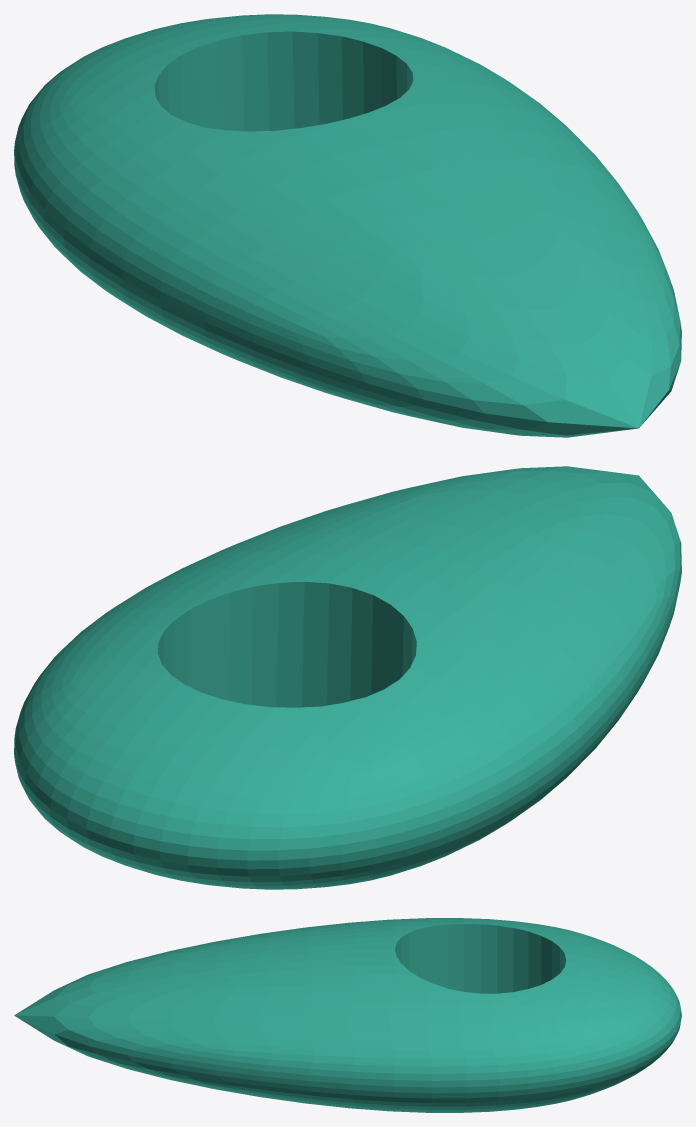
Rendered from Pinpoint.fbx.
The picture shows the model from 3 angles, top to bottom: view 1: azimuth 30°, elevation 25°; view 2: azimuth 150°, elevation 25°; view 3: azimuth 270°, elevation 25°; orthographic projection. The views are drawn at different scales.
Visible parts, largest first — view 1: Cube; view 2: Cube; view 3: Cube.
Part boxes in pixels (bbox=[...]): Cube: bbox=[14, 14, 681, 437]; Cube: bbox=[14, 466, 681, 889]; Cube: bbox=[14, 918, 681, 1112].
Size of the model in its own units: 131 by 53.29 by 246.
